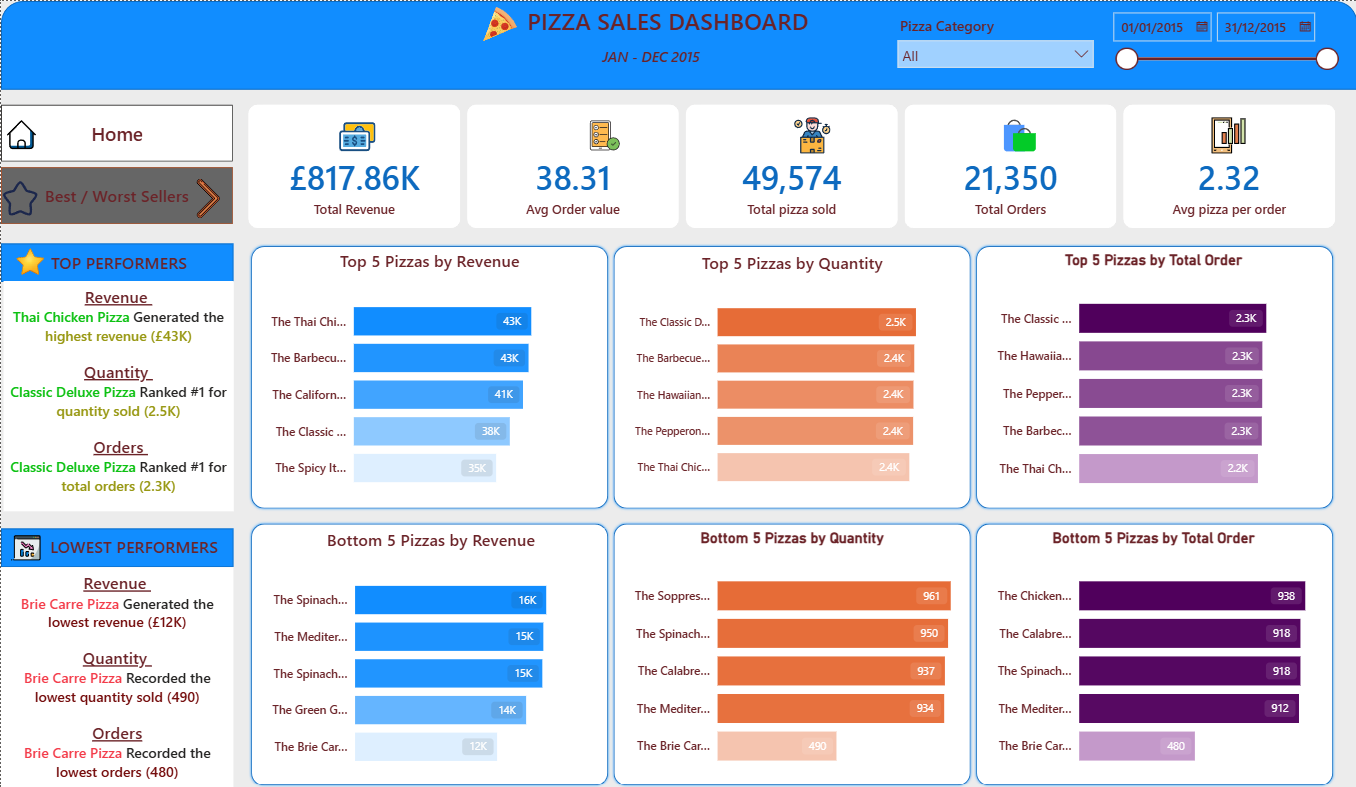

The dashboard page shown, as its layout file describes it:
{"tool":"powerbi","page":{"name":"Best / Worst Sellers","canvas":[1550,900],"ordinal":1},"visuals":[{"type":"cardVisual","fields":{"Data":["pizza_db pizza_sales.Total Revenue","pizza_db pizza_sales.Avg Order value","pizza_db pizza_sales.Total pizza sold","pizza_db pizza_sales.Total Orders","pizza_db pizza_sales.Avg pizza per order"]},"box":[265.7,101.4,1277.1,175.7],"z":0},{"type":"shape","box":[0,0,1550,101.4],"z":1000},{"type":"textbox","box":[570,0,384.3,47.1],"z":2000},{"type":"textbox","box":[662.9,47.1,160,37.1],"z":3000},{"type":"slicer","fields":{"Values":["pizza_db pizza_sales.pizza_category"]},"box":[1014.3,11.4,244.3,75.7],"z":13000},{"type":"slicer","fields":{"Values":["pizza_db pizza_sales.order_date"]},"box":[1258.6,2.9,278.6,91.4],"z":14000},{"type":"image","box":[524.3,2.9,91.4,47.1],"z":15000},{"type":"image","box":[380,134.3,54,41.4],"z":16000},{"type":"image","box":[662.9,132.9,54,41.4],"z":17000},{"type":"image","box":[900,132.9,54.3,41.4],"z":18000},{"type":"image","box":[1137.1,132.9,54,41.4],"z":19000},{"type":"image","box":[1375.7,132.9,54,41.4],"z":20000},{"type":"textbox","box":[5.7,174.3,252.9,12.9],"z":25000},{"type":"shape","box":[697.1,277.1,414,306],"z":30001},{"type":"shape","box":[282.9,594.3,414,306],"z":30002},{"type":"shape","box":[1111.4,277.1,414,306],"z":30003},{"type":"shape","box":[697.1,594.3,414,306],"z":30004},{"type":"shape","box":[1111.4,594.3,414,306],"z":30005},{"type":"clusteredBarChart","title":"Bottom 5 Pizzas by Revenue","fields":{"Y":["pizza_db pizza_sales.Total Revenue"],"Category":["pizza_db pizza_sales.pizza_name"]},"box":[292.9,602.9,397.1,288.6],"z":30007},{"type":"clusteredBarChart","title":"Top 5 Pizzas by Quantity","fields":{"Y":["Sum(pizza_db pizza_sales.quantity)"],"Category":["pizza_db pizza_sales.pizza_name"]},"box":[707.1,285.7,394.3,285.7],"z":30008},{"type":"clusteredBarChart","title":"Bottom 5 Pizzas by Quantity","fields":{"Y":["Sum(pizza_db pizza_sales.quantity)"],"Category":["pizza_db pizza_sales.pizza_name"]},"box":[707.1,602.9,394.3,288.6],"z":30009},{"type":"clusteredBarChart","title":"Top 5 Pizzas by Total Order","fields":{"Y":["pizza_db pizza_sales.Total Orders"],"Category":["pizza_db pizza_sales.pizza_name"]},"box":[1121.4,285.7,391.4,288.6],"z":30010},{"type":"clusteredBarChart","title":"Bottom 5 Pizzas by Total Order","fields":{"Y":["pizza_db pizza_sales.Total Orders"],"Category":["pizza_db pizza_sales.pizza_name"]},"box":[1121.4,602.9,391.4,288.6],"z":30011},{"type":"pageNavigator","box":[0,118.6,265.7,65],"z":30012},{"type":"pageNavigator","box":[0,190,265.7,65],"z":30013},{"type":"shape","box":[0,277.1,265.7,44],"z":30015},{"type":"shape","box":[0,602.9,265.7,44.3],"z":30016},{"type":"textbox","box":[8.6,281.4,252.9,38.6],"z":30017},{"type":"textbox","box":[2.9,320,262.9,262.9],"z":30018},{"type":"textbox","box":[0,647.1,265.7,252.9],"z":30019},{"type":"textbox","box":[25.7,605.7,252.9,38],"z":30020},{"type":"image","box":[8.6,278.6,50,38.6],"z":30021},{"type":"image","box":[2.9,605.7,51.4,38.6],"z":30022},{"type":"image","box":[208.6,202.9,57.1,45.7],"z":30023},{"type":"image","box":[0,202.9,44.3,45.7],"z":30024},{"type":"image","box":[1.4,130,44.3,45.7],"z":30025},{"type":"shape","box":[282.9,277.1,414,306],"z":30026},{"type":"clusteredBarChart","title":"Top 5 Pizzas by Revenue","fields":{"Y":["pizza_db pizza_sales.Total Revenue"],"Category":["pizza_db pizza_sales.pizza_name"]},"box":[291.4,284.3,397.1,288.6],"z":30027}]}

Visuals, with their boxes in screenshot pixels (x1, y1, x2, y2), scaled from the page's 1550x900 canvas onto the 1356x787 screenshot:
cardVisual - pizza_db pizza_sales.Total Revenue x pizza_db pizza_sales.Avg Order value: [x1=232, y1=89, x2=1350, y2=242]
shape: [x1=0, y1=0, x2=1355, y2=89]
textbox: [x1=499, y1=0, x2=835, y2=41]
textbox: [x1=580, y1=41, x2=720, y2=74]
slicer - pizza_db pizza_sales.pizza_category: [x1=887, y1=10, x2=1101, y2=76]
slicer - pizza_db pizza_sales.order_date: [x1=1101, y1=3, x2=1345, y2=82]
image: [x1=459, y1=3, x2=539, y2=44]
image: [x1=332, y1=117, x2=380, y2=154]
image: [x1=580, y1=116, x2=627, y2=152]
image: [x1=787, y1=116, x2=835, y2=152]
image: [x1=995, y1=116, x2=1042, y2=152]
image: [x1=1204, y1=116, x2=1251, y2=152]
textbox: [x1=5, y1=152, x2=226, y2=164]
shape: [x1=610, y1=242, x2=972, y2=510]
shape: [x1=247, y1=520, x2=610, y2=786]
shape: [x1=972, y1=242, x2=1334, y2=510]
shape: [x1=610, y1=520, x2=972, y2=786]
shape: [x1=972, y1=520, x2=1334, y2=786]
"Bottom 5 Pizzas by Revenue" clusteredBarChart: [x1=256, y1=527, x2=604, y2=780]
"Top 5 Pizzas by Quantity" clusteredBarChart: [x1=619, y1=250, x2=964, y2=500]
"Bottom 5 Pizzas by Quantity" clusteredBarChart: [x1=619, y1=527, x2=964, y2=780]
"Top 5 Pizzas by Total Order" clusteredBarChart: [x1=981, y1=250, x2=1323, y2=502]
"Bottom 5 Pizzas by Total Order" clusteredBarChart: [x1=981, y1=527, x2=1323, y2=780]
pageNavigator: [x1=0, y1=104, x2=232, y2=161]
pageNavigator: [x1=0, y1=166, x2=232, y2=223]
shape: [x1=0, y1=242, x2=232, y2=281]
shape: [x1=0, y1=527, x2=232, y2=566]
textbox: [x1=8, y1=246, x2=229, y2=280]
textbox: [x1=3, y1=280, x2=233, y2=510]
textbox: [x1=0, y1=566, x2=232, y2=786]
textbox: [x1=22, y1=530, x2=244, y2=563]
image: [x1=8, y1=244, x2=51, y2=277]
image: [x1=3, y1=530, x2=48, y2=563]
image: [x1=182, y1=177, x2=232, y2=217]
image: [x1=0, y1=177, x2=39, y2=217]
image: [x1=1, y1=114, x2=40, y2=154]
shape: [x1=247, y1=242, x2=610, y2=510]
"Top 5 Pizzas by Revenue" clusteredBarChart: [x1=255, y1=249, x2=602, y2=501]
